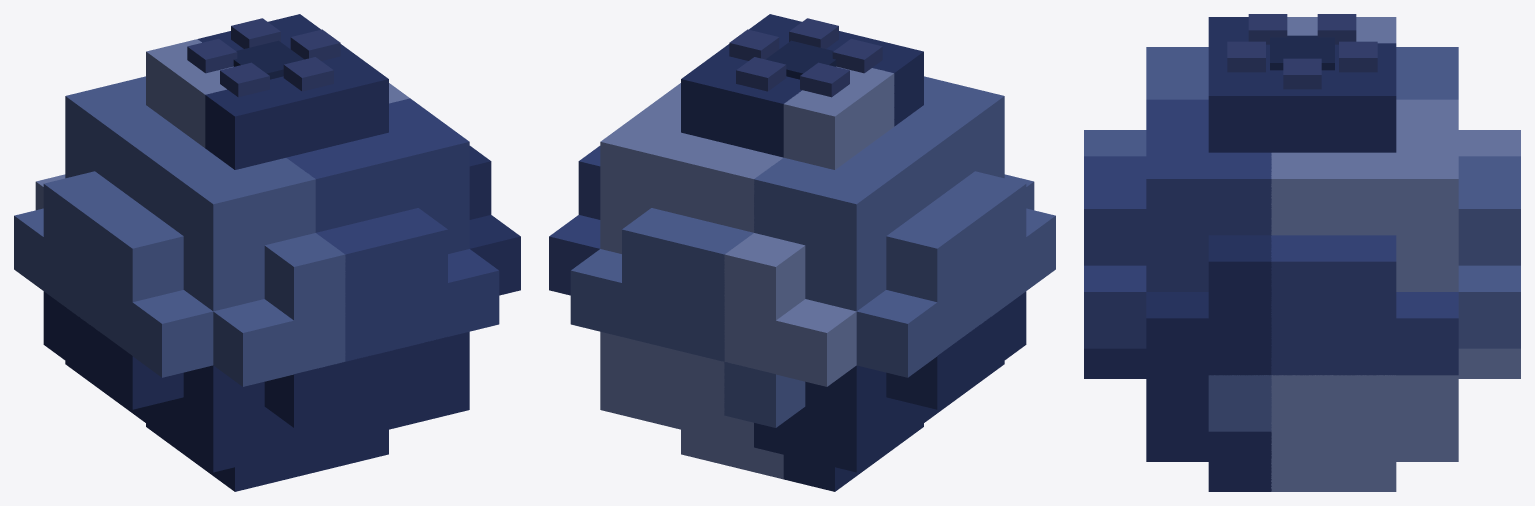
File: BB-04_springhigh.glb
The picture shows the model from 3 angles, left to right: view 1: azimuth 30°, elevation 25°; view 2: azimuth 150°, elevation 25°; view 3: azimuth 270°, elevation 25°; orthographic projection. The views are drawn at different scales.
Parts seen in each view (by area): view 1: Springhigh · original workbench cubes; view 2: Springhigh · original workbench cubes; view 3: Springhigh · original workbench cubes.
Boxes of the visible parts, x1,y1,x2,y2 form: Springhigh · original workbench cubes: (14, 14, 520, 491); Springhigh · original workbench cubes: (549, 14, 1055, 491); Springhigh · original workbench cubes: (1084, 14, 1520, 491).
Size of the model in its own units: 0.1667 by 0.1728 by 0.1667.
